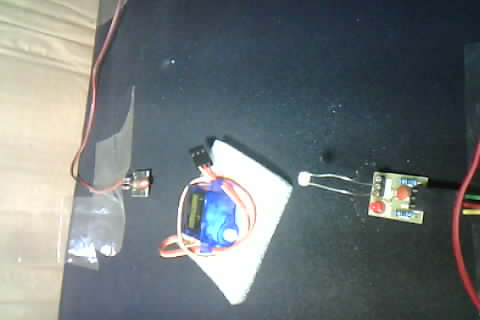motor: (158, 137, 295, 307)
